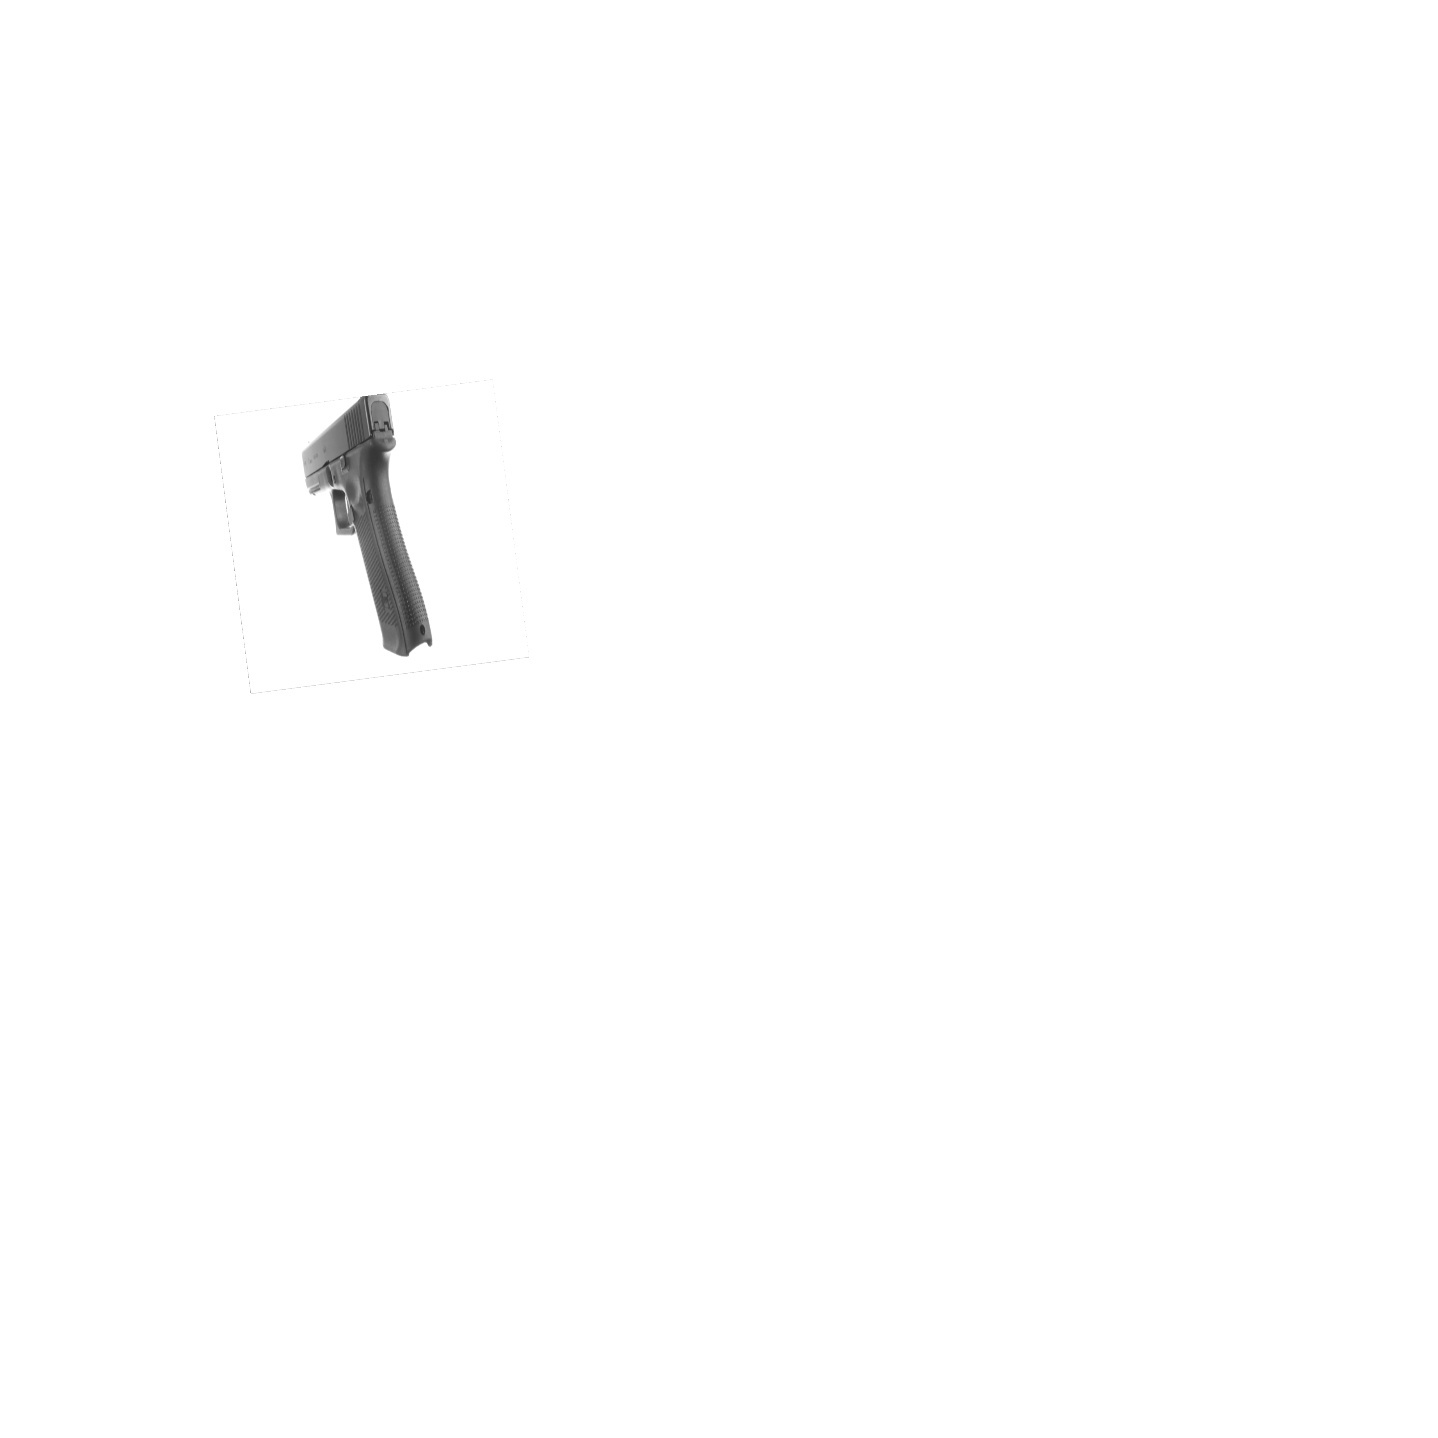gun: (300, 390, 431, 660)
